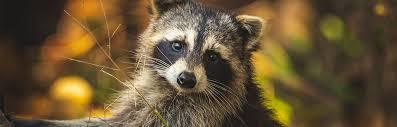Non_Gorille: (90, 0, 304, 127)
